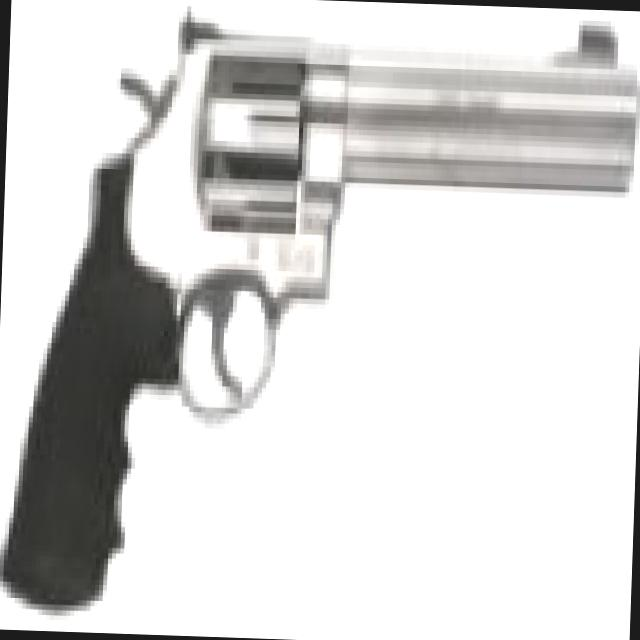handgun: (2, 6, 626, 613)
